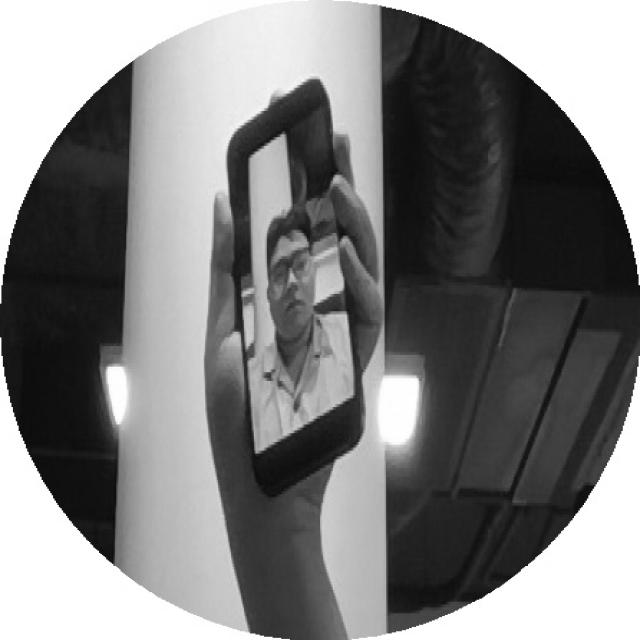fake: (158, 62, 417, 506), (218, 63, 404, 505)
